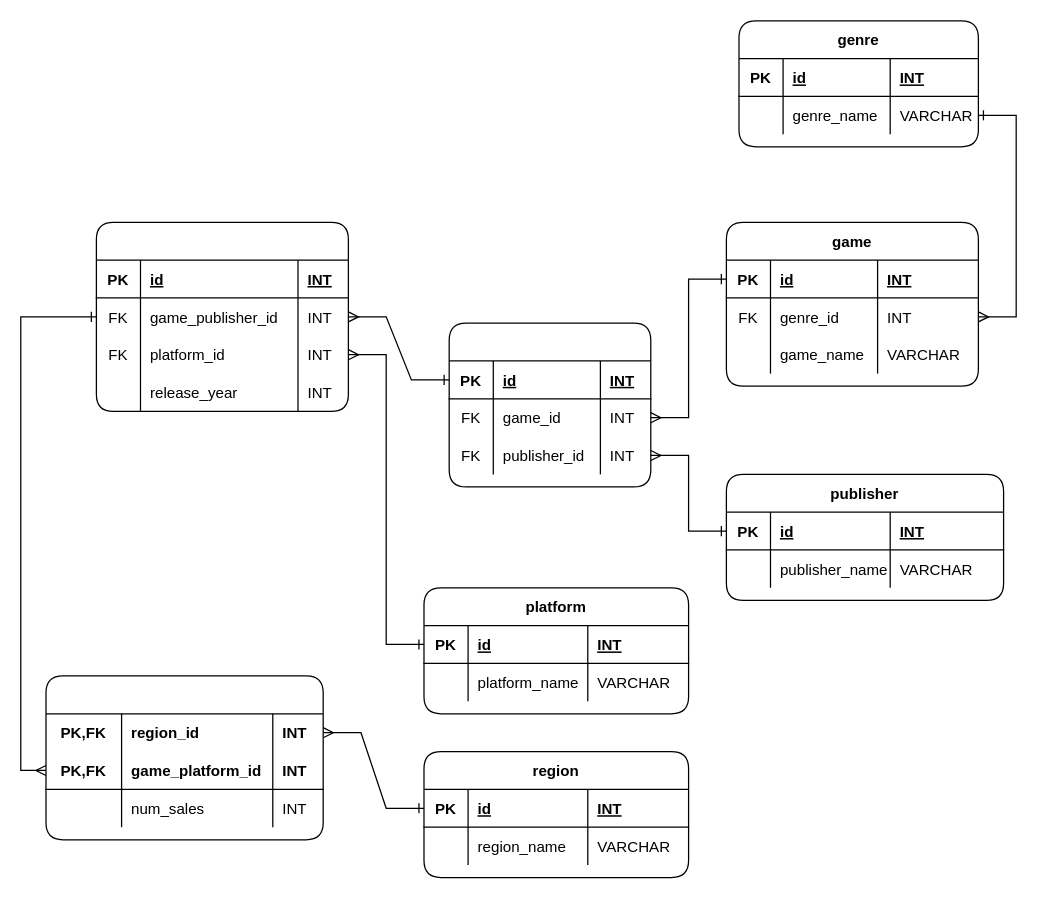
The diagram is 1037 pixels wide and 898 high, and some of its shapes have lost their labels. The box of each missing label's shape, as (x1, y1, x2, y2) in pixels:
game_platform: (95, 221, 348, 411)
game_publisher: (448, 322, 651, 487)
region_sales: (45, 675, 323, 840)
